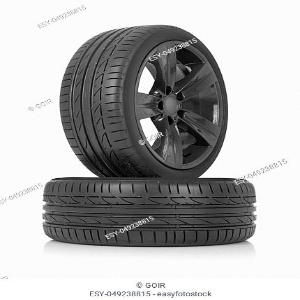tire: (65, 27, 229, 177), (46, 174, 257, 250)
